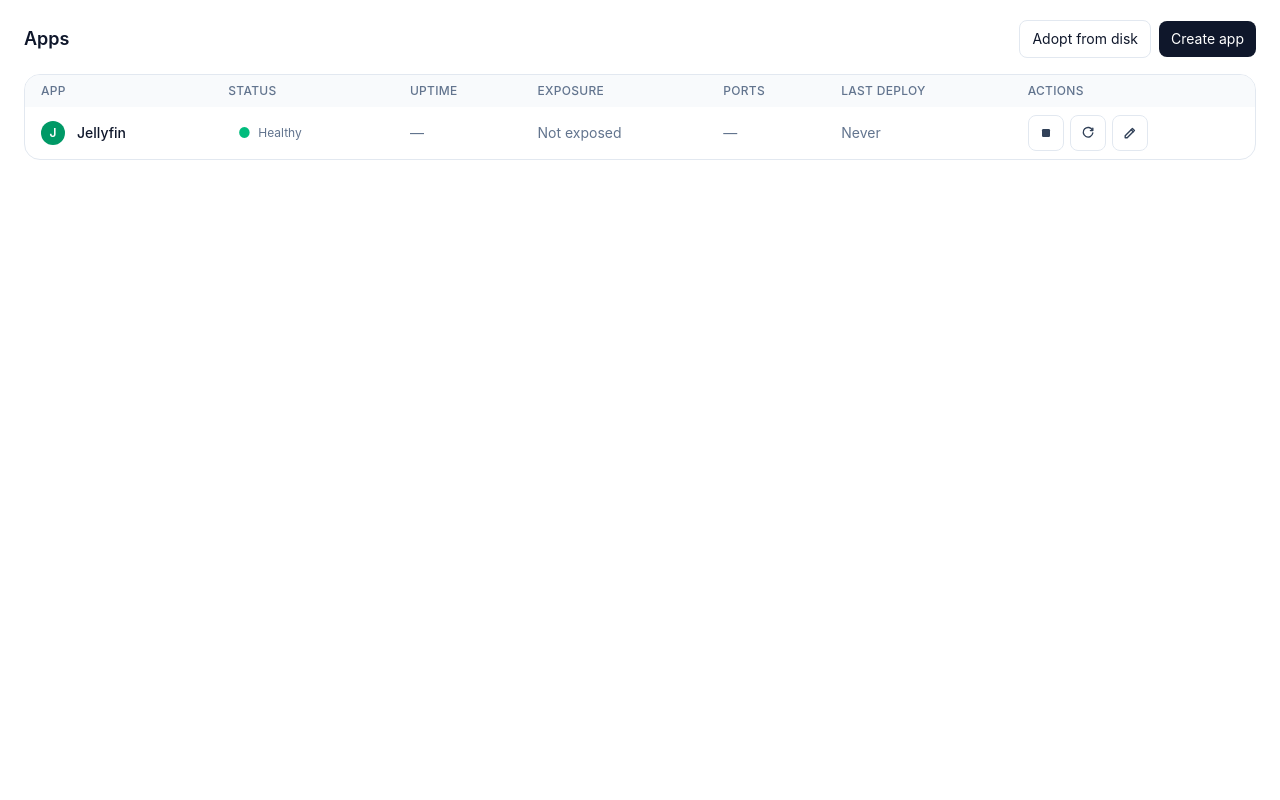
Test: AdminApps › row actions › Start/Stop toggle › does not post down when the stop confirmation is cancelled
The width and height of the screenshot is (1280, 800).
Click the button named "Stop".
click(1046, 133)  # box [1028, 115, 1064, 151]
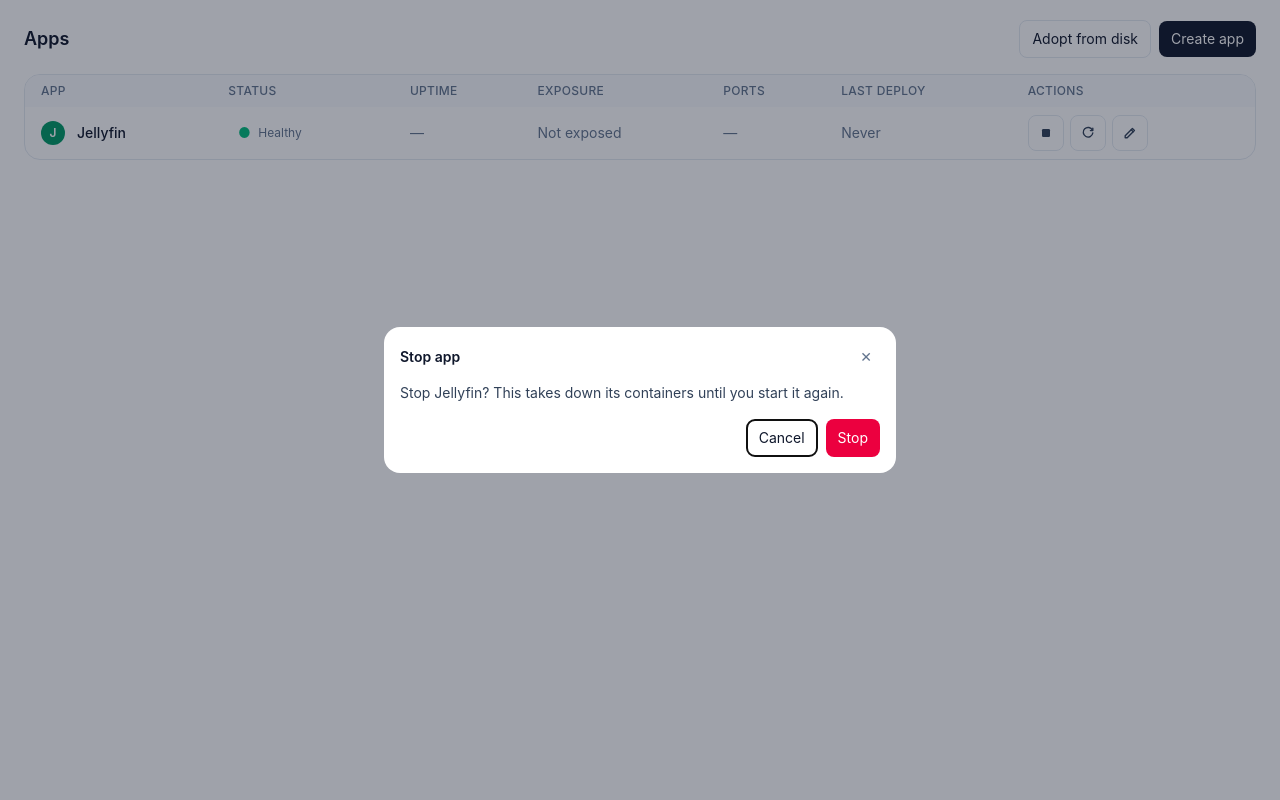
Click the button "Cancel".
click(782, 438)  # box [746, 419, 818, 457]
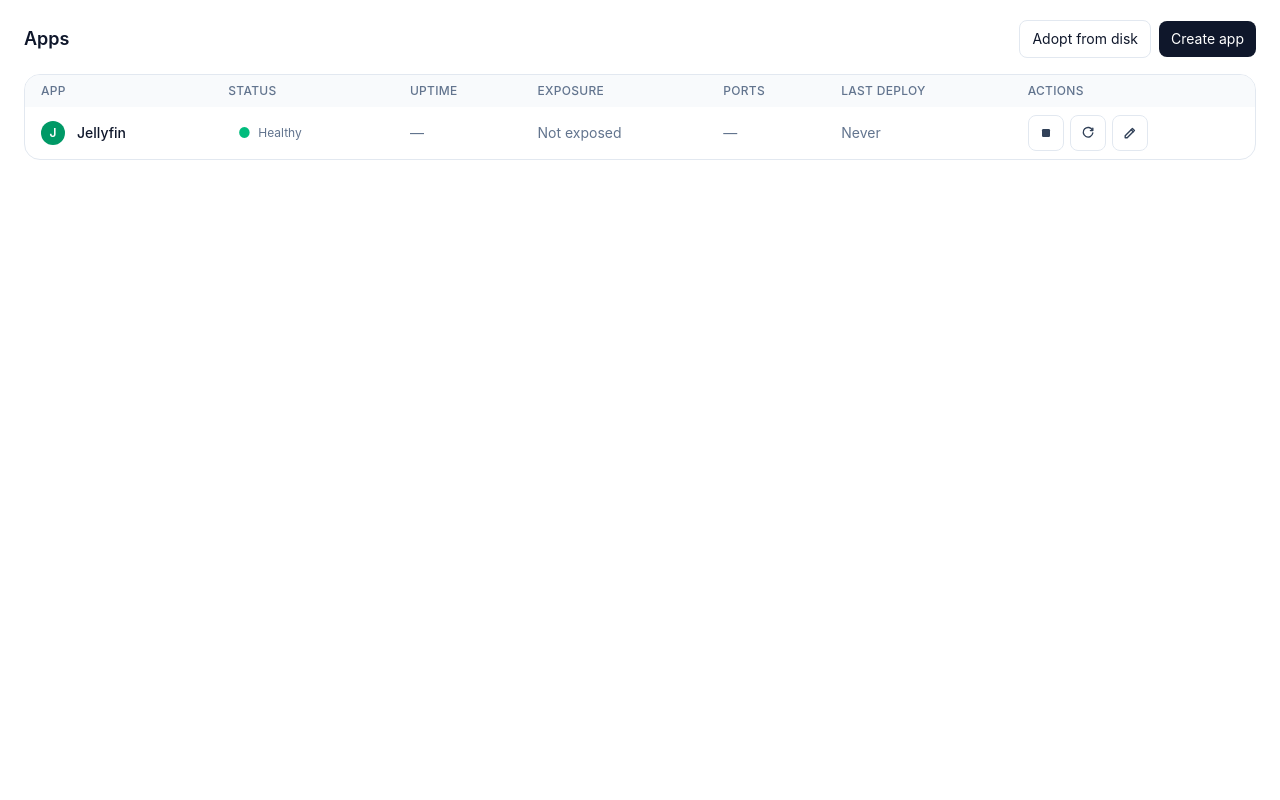
Expected: the dialog is gone
